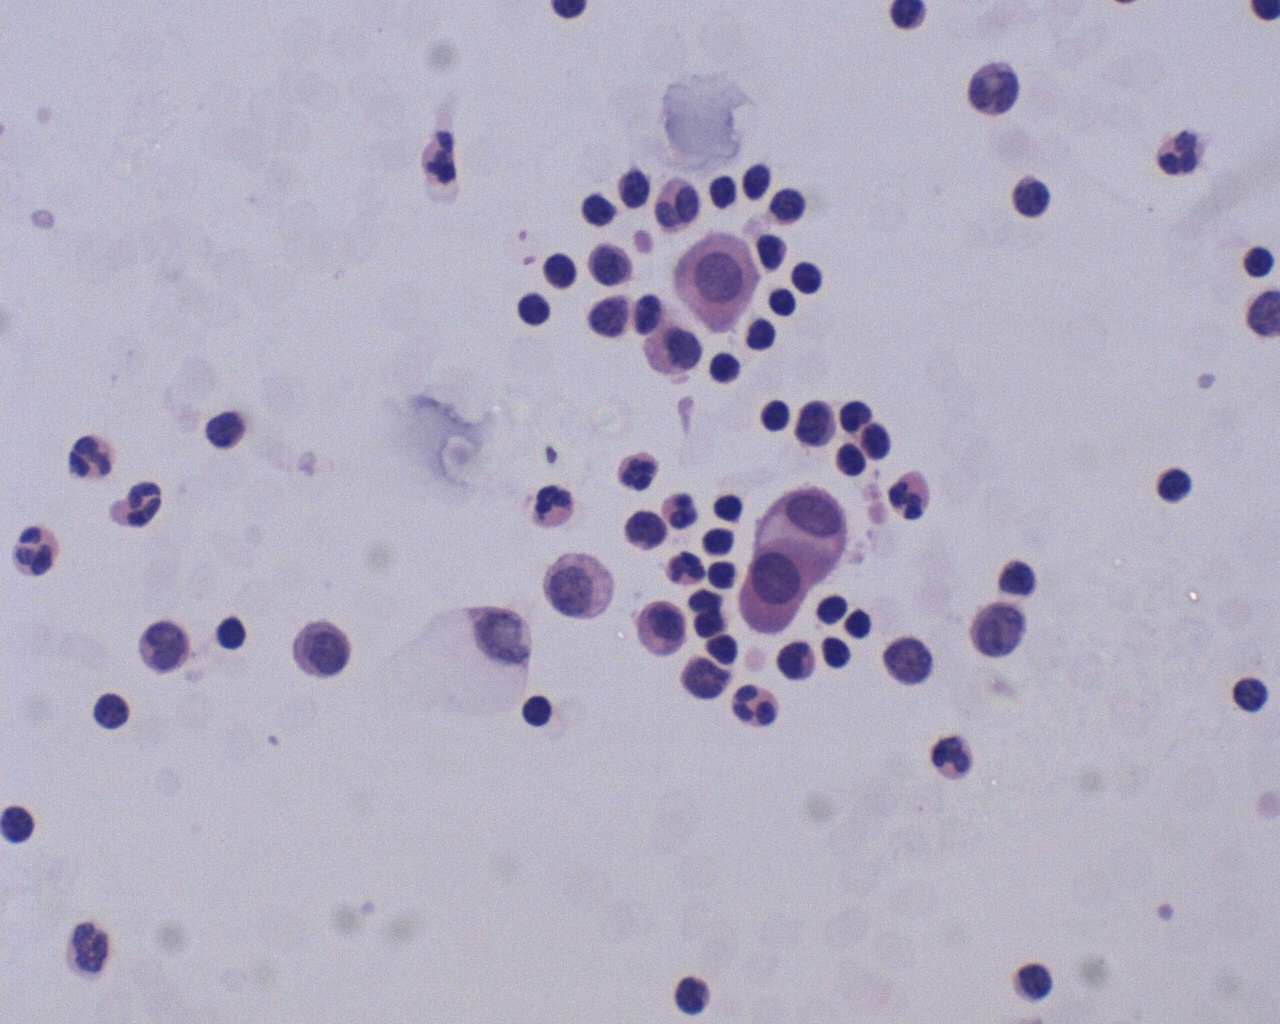ab: (292, 616, 362, 682), (131, 612, 193, 672)
lymph: (1148, 461, 1196, 513), (1226, 669, 1274, 716), (90, 689, 134, 738), (205, 611, 256, 652), (517, 689, 557, 734), (757, 396, 797, 439), (789, 257, 828, 301), (516, 290, 550, 331), (705, 350, 742, 387), (767, 286, 801, 321)
meso: (673, 227, 767, 340), (728, 542, 815, 643), (762, 483, 850, 558)
neutro: (10, 519, 66, 582), (926, 730, 984, 789), (64, 426, 121, 485), (1146, 127, 1206, 180), (886, 463, 934, 526), (734, 675, 781, 738), (659, 541, 713, 589), (616, 446, 664, 497), (658, 486, 707, 533)
